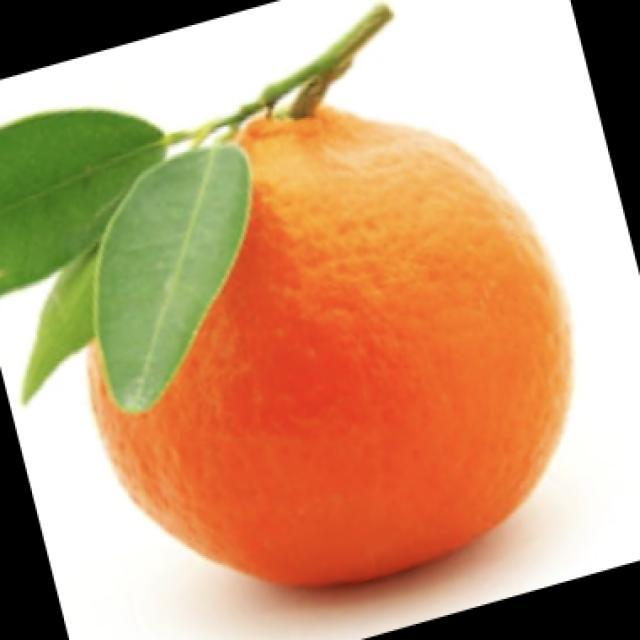Orange: (85, 102, 573, 589)
